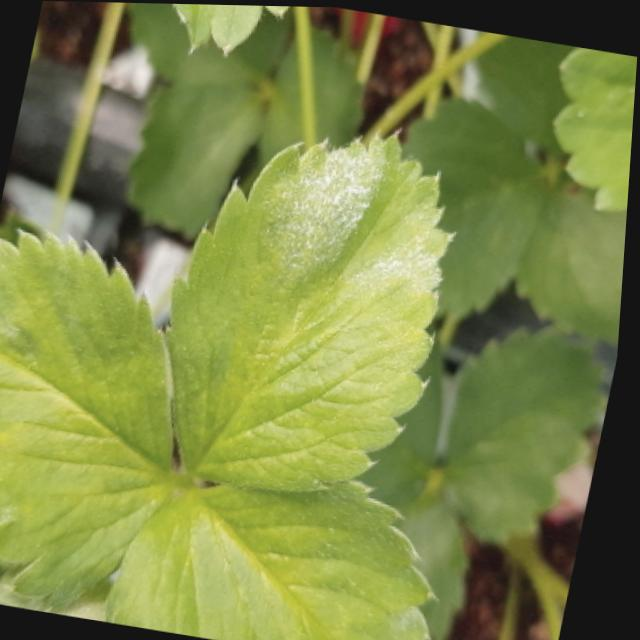Powdery Mildew Leaf: (166, 123, 464, 492)
